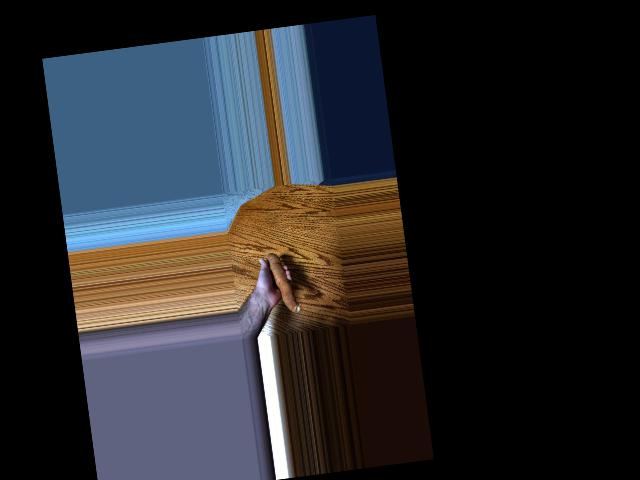sweet_potato: (266, 250, 290, 315)
